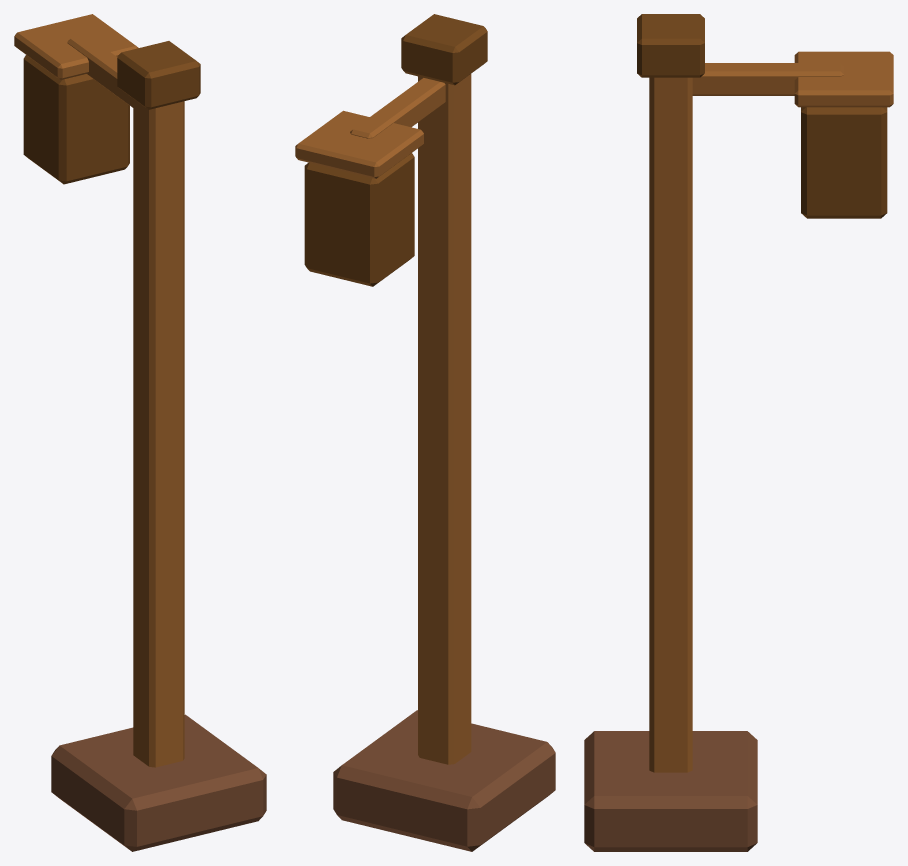
Rendered from CopperLampPost.glb.
3 views of the same model, side by side, from view 1: azimuth 30°, elevation 25°; view 2: azimuth 150°, elevation 25°; view 3: azimuth 270°, elevation 25° (orthographic). The views are drawn at different scales.
Parts seen in each view (by area): view 1: Body; view 2: Body; view 3: Body.
Part boxes in pixels (x1=…): Body: x1=14, y1=14, x2=266, y2=851; Body: x1=295, y1=14, x2=555, y2=851; Body: x1=584, y1=14, x2=893, y2=851.
Size of what is drawn, in the model's own units: 1.4 by 7.08 by 2.5.
